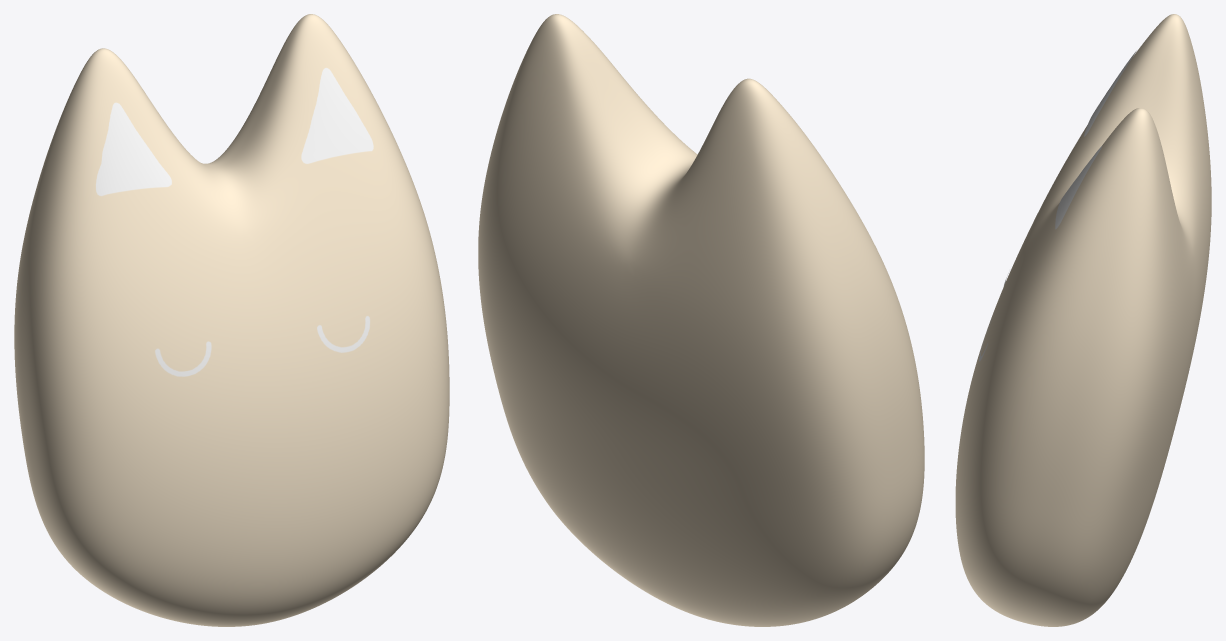
File: mascotBreathingExciresize.glb
3 views of the same model, side by side, from view 1: azimuth 30°, elevation 25°; view 2: azimuth 150°, elevation 25°; view 3: azimuth 270°, elevation 25° (orthographic). The views are drawn at different scales.
Parts seen in each view (by area): view 1: Mascot.003, 2D-Rig-Mouth-001.014; view 2: Mascot.003; view 3: Mascot.003, 2D-Rig-Mouth-001.014.
Part boxes in pixels (bbox=[...]): Mascot.003: bbox=[14, 14, 449, 626]; 2D-Rig-Mouth-001.014: bbox=[96, 67, 373, 376]; Mascot.003: bbox=[478, 14, 924, 626]; Mascot.003: bbox=[955, 14, 1211, 626]; 2D-Rig-Mouth-001.014: bbox=[979, 51, 1136, 361].
Bounding box in the file's own units: 4.47 × 6.06 × 2.58.
Materials: 2 (1 with a texture image).
